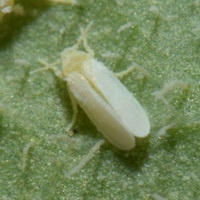insect: (52, 30, 149, 149)
